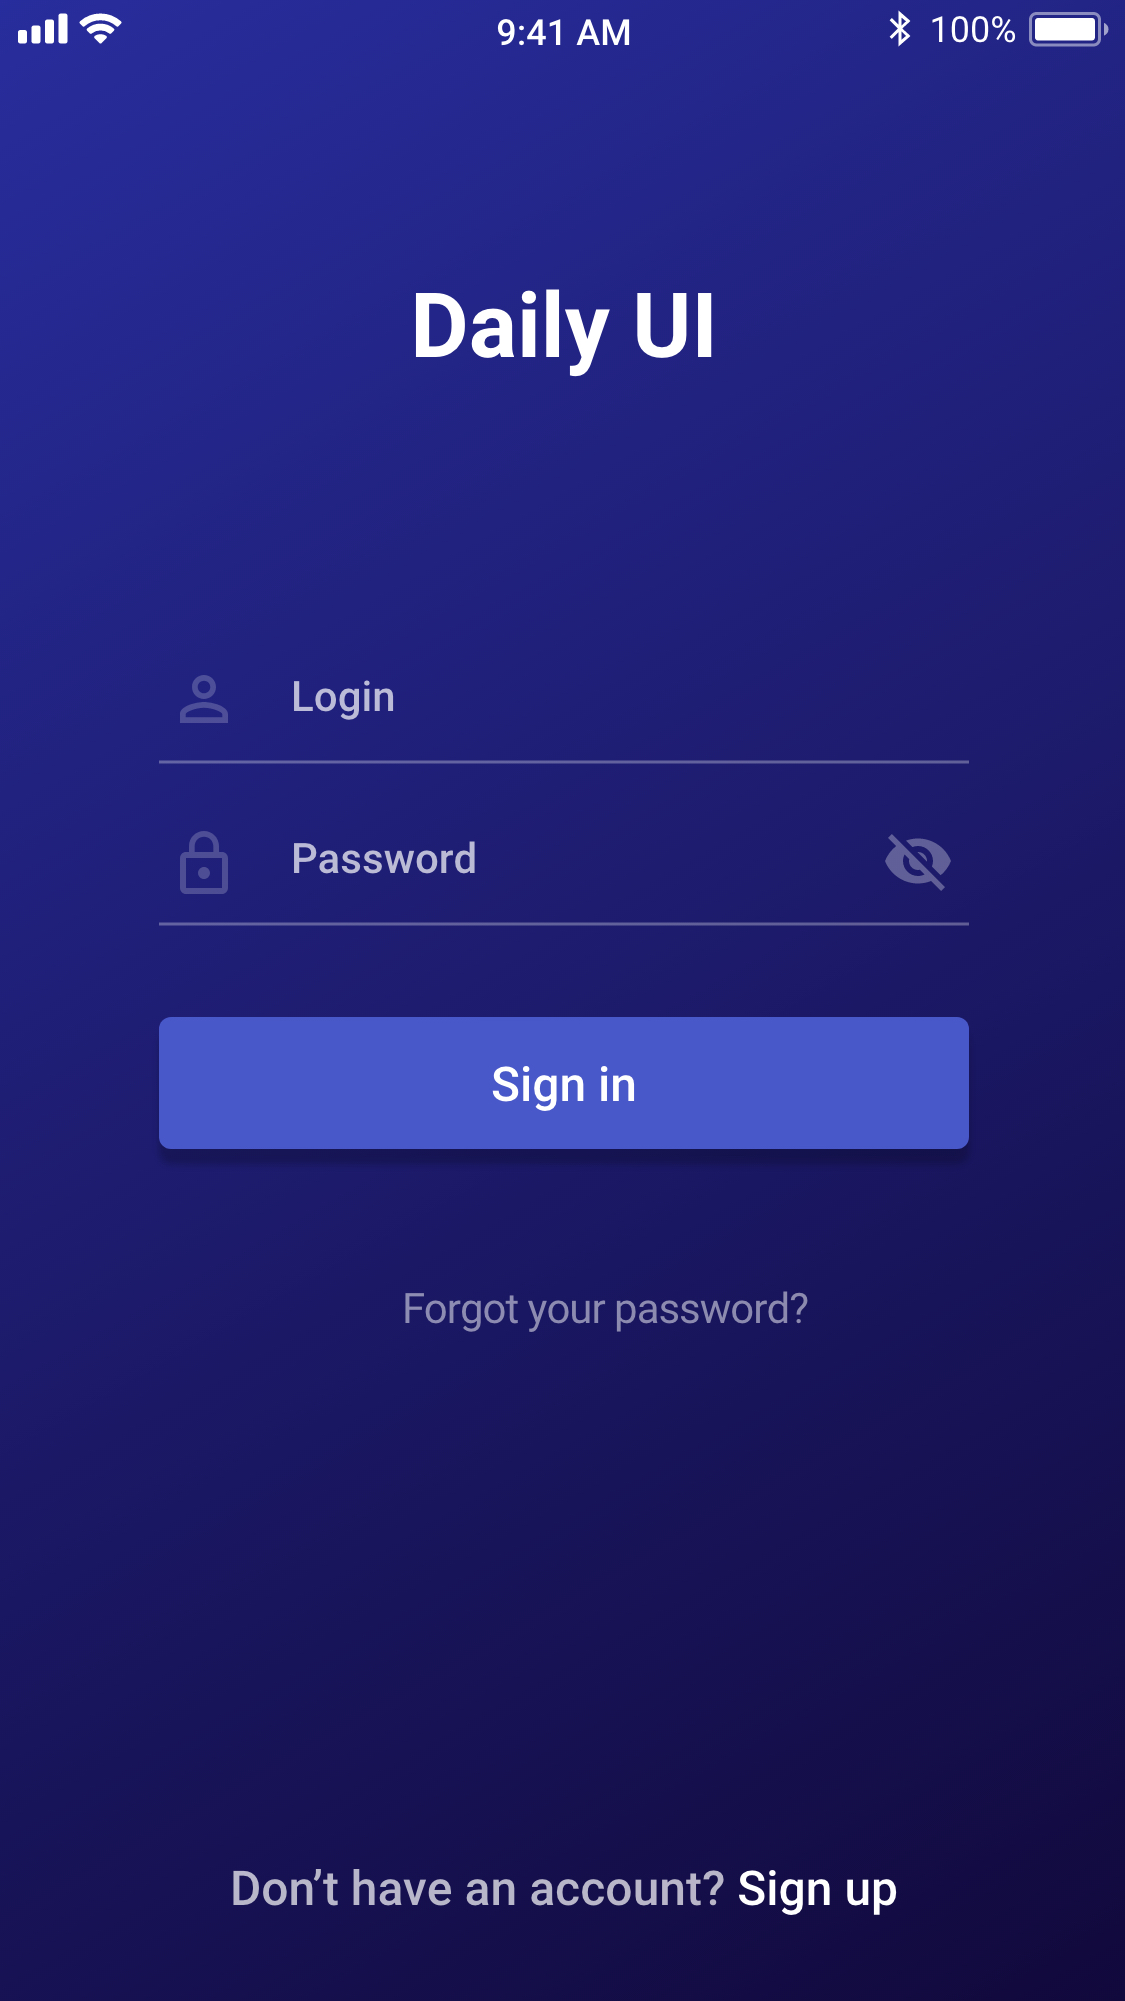EditText: (159, 831, 970, 928), (159, 675, 970, 765)
Icon: (885, 833, 952, 893), (180, 831, 229, 895), (180, 675, 229, 724)
Text: (234, 1868, 897, 1916), (415, 289, 713, 381), (404, 1290, 809, 1333), (293, 842, 477, 875), (294, 679, 394, 722)
TextButton: (159, 1017, 970, 1150)
UpperTaskBar: (1, 1, 1125, 51)
